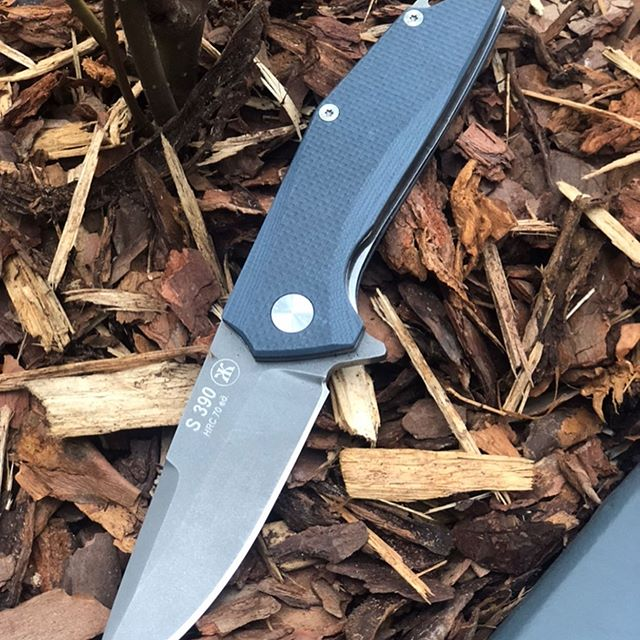knife: (101, 1, 507, 639)
